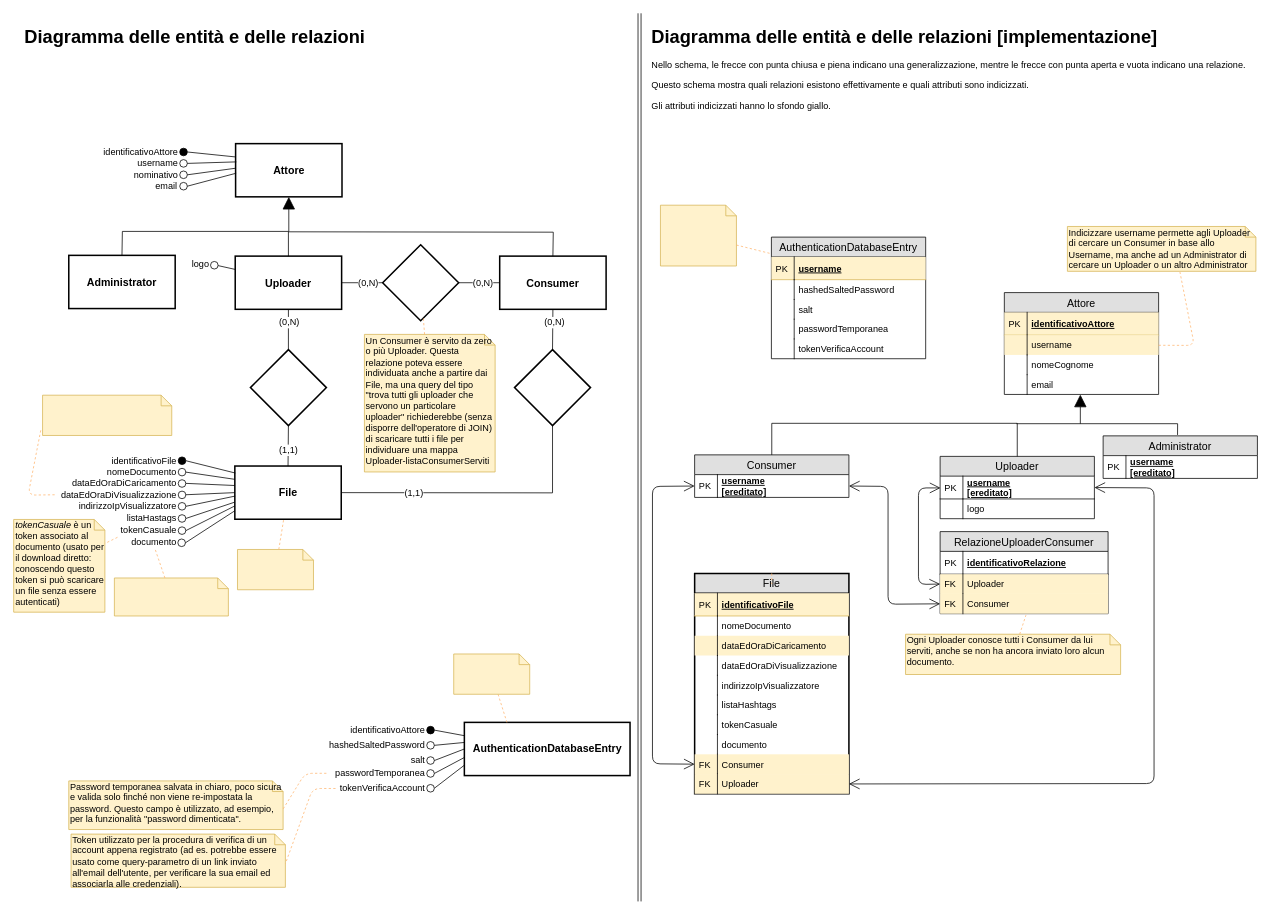
Some shapes in this 1271 by 915 pixel diagram are drawn without their labels. Here are the shapes that lost their labels. From the top down, the centre of each, then its label:
At [698,235]: "Auhentication Database scorrelato dal database del servizio".
At [420,282]: "servizio".
At [288,387]: "caricamento".
At [552,387]: "scaricamento".
At [107,414]: "Un file si considera letto se viene impostata la dataEdOraDiVisualizzazione".
At [275,569]: "Documento e File sono sinonimi".
At [171,596]: "documento è fisicamente il file da distribuire (array di byte)".
At [491,673]: "Auhentication Database".
